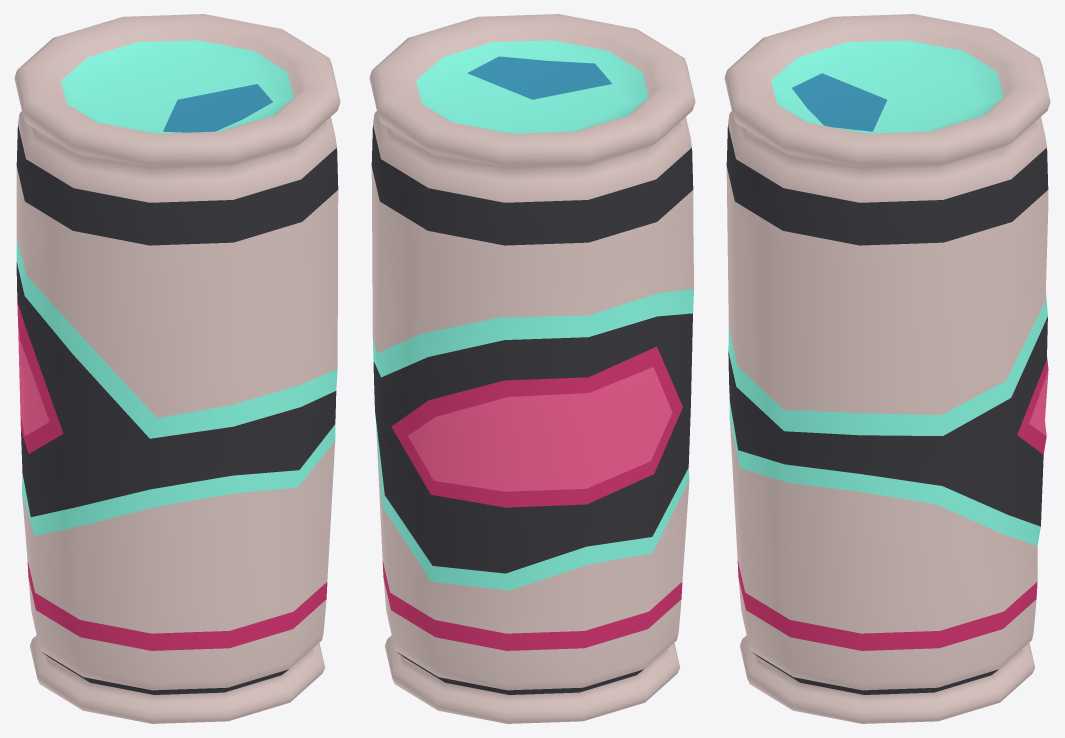
File: Energy.glb
The picture shows the model from 3 angles, left to right: view 1: azimuth 30°, elevation 25°; view 2: azimuth 150°, elevation 25°; view 3: azimuth 270°, elevation 25°; orthographic projection.
Visible parts, largest first — view 1: Cylinder; view 2: Cylinder; view 3: Cylinder.
Part boxes in pixels (x1,y1,x2,y2): Cylinder: [14, 14, 340, 723]; Cylinder: [369, 14, 695, 723]; Cylinder: [724, 14, 1050, 723].
Size of the model in its own units: 2.76 by 5.51 by 2.77.
1 material, 1 textured.
